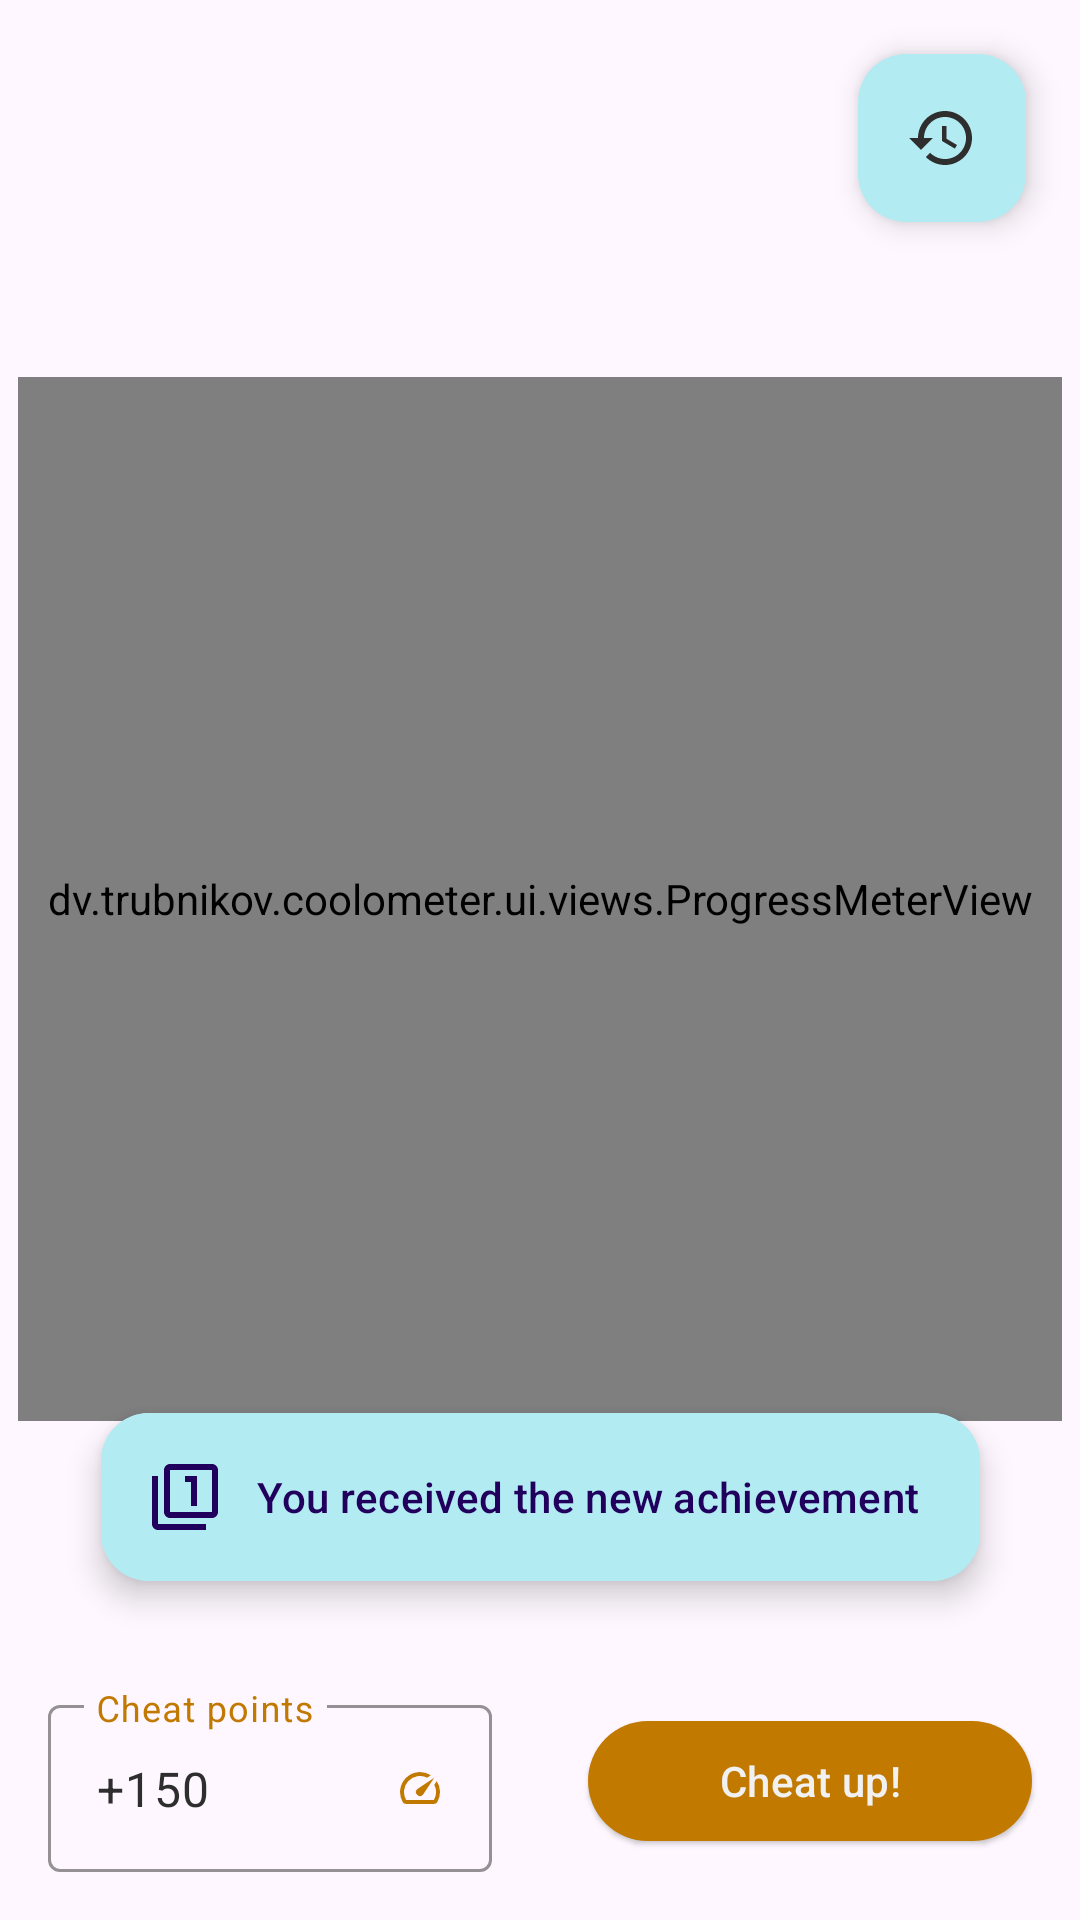

Point at icon controls on the screen. Image size 1080w x 1920h, points as (x=x, y=y).
history: (x=942, y=138)
